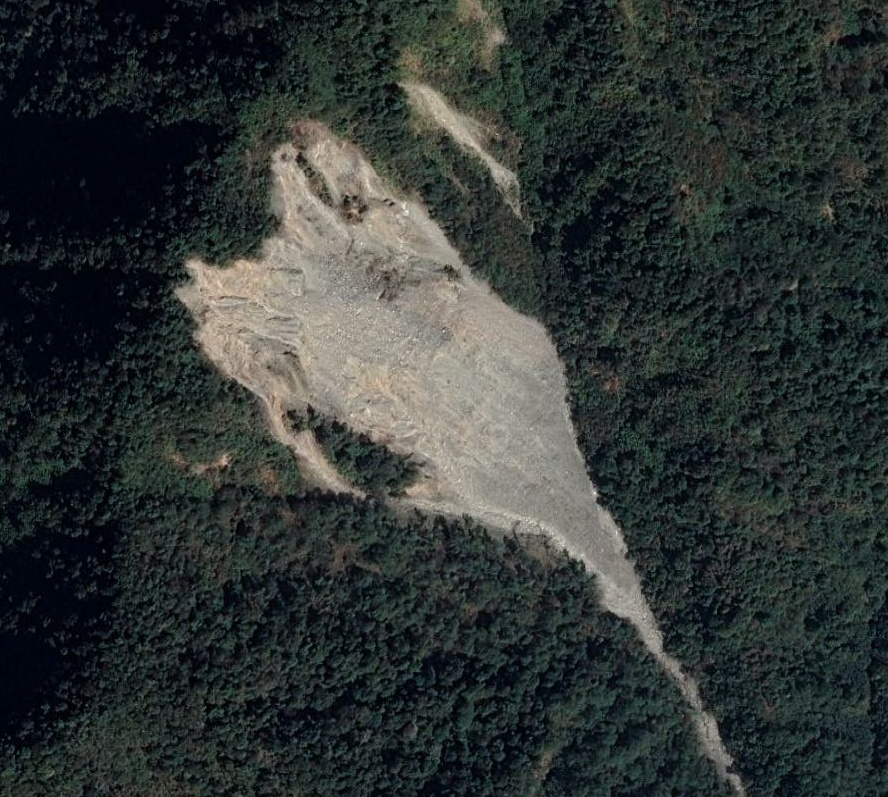slope: (168, 103, 751, 794), (394, 72, 526, 218), (449, 0, 506, 74)
